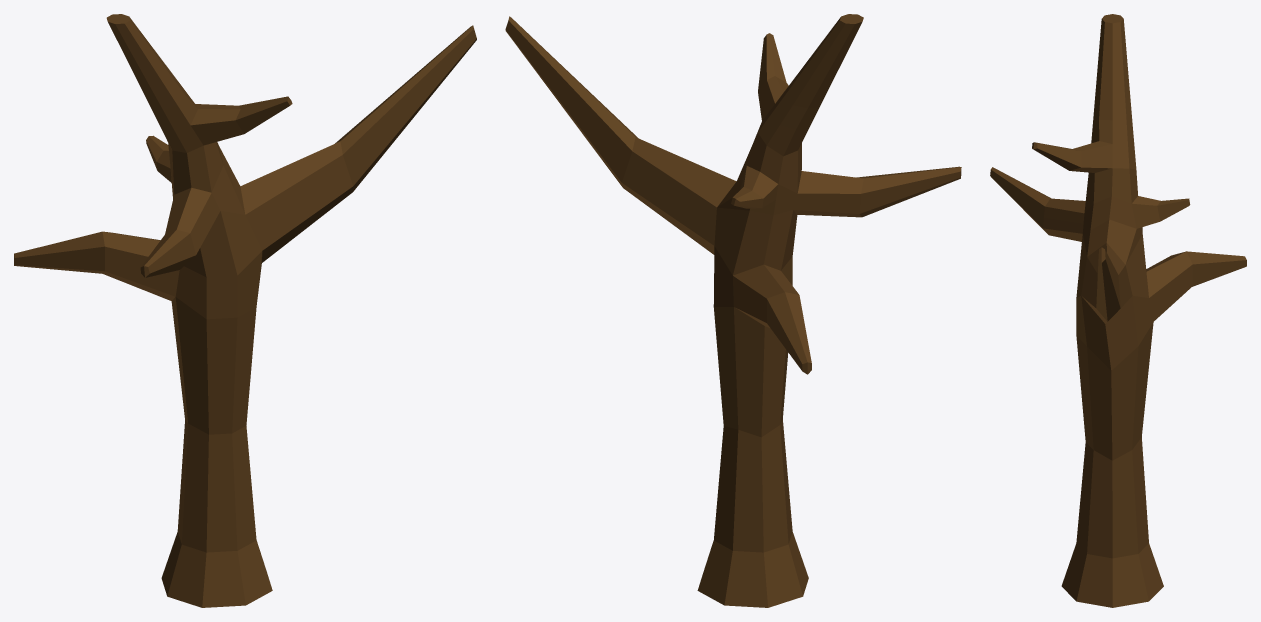
The model's file is Tree2Dead.fbx.
The picture shows the model from 3 angles, left to right: view 1: azimuth 30°, elevation 25°; view 2: azimuth 150°, elevation 25°; view 3: azimuth 270°, elevation 25°; orthographic projection. The views are drawn at different scales.
Parts seen in each view (by area): view 1: Icosphere; view 2: Icosphere; view 3: Icosphere.
Boxes of the visible parts, box(x1,y1,x2,y2) form: Icosphere: box(14, 14, 476, 607); Icosphere: box(505, 14, 961, 607); Icosphere: box(990, 14, 1246, 607).
Size of the model in its own units: 227 by 323 by 143.
